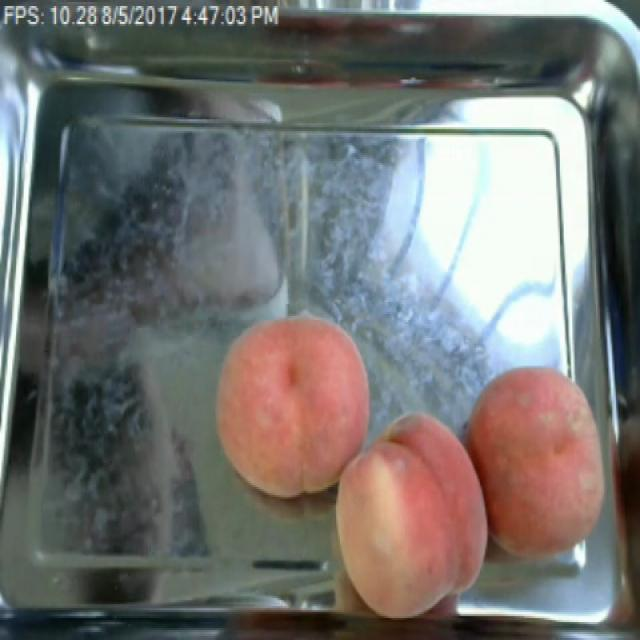Fruit: (321, 402, 504, 622), (205, 306, 384, 507), (455, 356, 617, 568)
